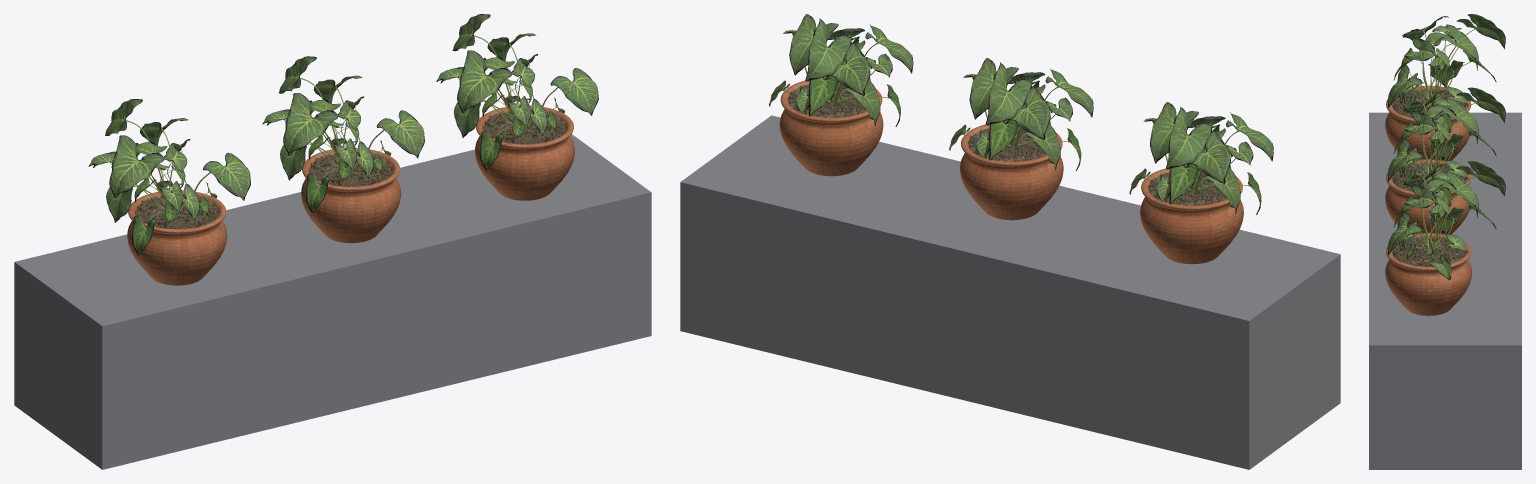
Rendered from planter_divider.glb.
The picture shows the model from 3 angles, left to right: view 1: azimuth 30°, elevation 25°; view 2: azimuth 150°, elevation 25°; view 3: azimuth 270°, elevation 25°; orthographic projection. The views are drawn at different scales.
Parts seen in each view (by area): view 1: simple_c0, potted_plant_02_1_n1, potted_plant_02_1_n2, potted_plant_02_1_n0, potted_plant_02_2_n0, potted_plant_02_2_n1, potted_plant_02_2_n2, potted_plant_02_0_n0, potted_plant_02_0_n1, potted_plant_02_0_n2; view 2: simple_c0, potted_plant_02_1_n1, potted_plant_02_1_n2, potted_plant_02_1_n0, potted_plant_02_2_n2, potted_plant_02_2_n1, potted_plant_02_2_n0, potted_plant_02_0_n1, potted_plant_02_0_n0, potted_plant_02_0_n2; view 3: simple_c0, potted_plant_02_1_n2, potted_plant_02_1_n1, potted_plant_02_1_n0, potted_plant_02_2_n2, potted_plant_02_2_n1, potted_plant_02_2_n0, potted_plant_02_0_n2, potted_plant_02_0_n1, potted_plant_02_0_n0.
Boxes of the visible parts, <box> form: simple_c0: <box>14,134,651,469</box>; potted_plant_02_1_n1: <box>262,56,424,212</box>; potted_plant_02_1_n2: <box>436,14,598,170</box>; potted_plant_02_1_n0: <box>88,99,250,255</box>; potted_plant_02_2_n0: <box>127,190,227,285</box>; potted_plant_02_2_n1: <box>301,148,401,243</box>; potted_plant_02_2_n2: <box>475,105,574,200</box>; potted_plant_02_0_n0: <box>134,194,219,229</box>; potted_plant_02_0_n1: <box>308,152,393,186</box>; potted_plant_02_0_n2: <box>482,109,567,144</box>; simple_c0: <box>680,115,1340,469</box>; potted_plant_02_1_n1: <box>949,58,1093,170</box>; potted_plant_02_1_n2: <box>769,14,913,126</box>; potted_plant_02_1_n0: <box>1129,102,1273,214</box>; potted_plant_02_2_n2: <box>779,77,883,176</box>; potted_plant_02_2_n1: <box>960,121,1063,220</box>; potted_plant_02_2_n0: <box>1140,165,1243,264</box>; potted_plant_02_0_n1: <box>967,126,1046,161</box>; potted_plant_02_0_n0: <box>1148,170,1226,205</box>; potted_plant_02_0_n2: <box>787,82,866,117</box>; simple_c0: <box>1369,112,1521,469</box>; potted_plant_02_1_n2: <box>1387,161,1505,279</box>; potted_plant_02_1_n1: <box>1387,87,1505,206</box>; potted_plant_02_1_n0: <box>1387,14,1505,132</box>; potted_plant_02_2_n2: <box>1385,233,1471,315</box>; potted_plant_02_2_n1: <box>1385,159,1471,234</box>; potted_plant_02_2_n0: <box>1385,85,1471,160</box>; potted_plant_02_0_n2: <box>1392,236,1464,266</box>; potted_plant_02_0_n1: <box>1392,162,1464,191</box>; potted_plant_02_0_n0: <box>1392,88,1464,118</box>.
Size of the model in its own units: 1.8 by 0.9547 by 0.5.
Materials: 3 (2 with a texture image).
